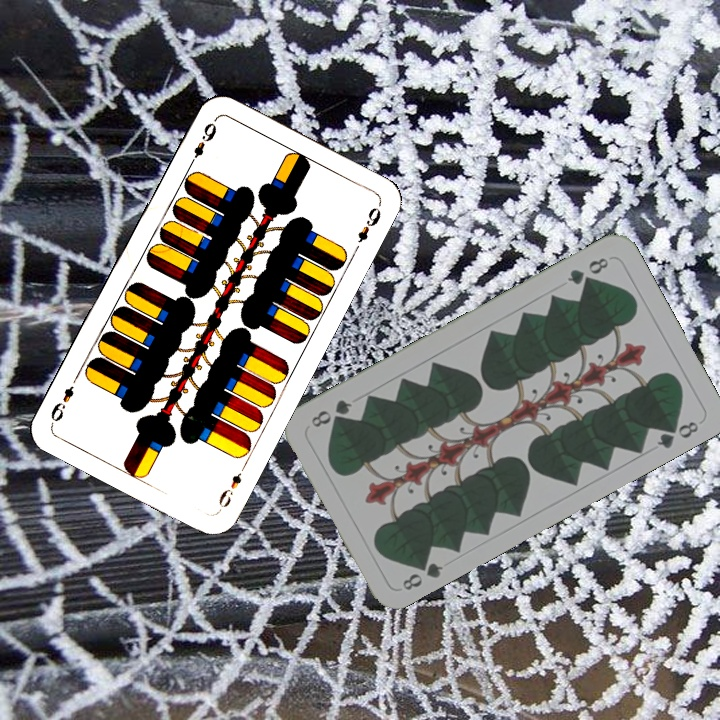E9: (214, 459, 249, 514), (184, 118, 219, 171)
G8: (398, 554, 446, 593), (563, 253, 612, 288)
